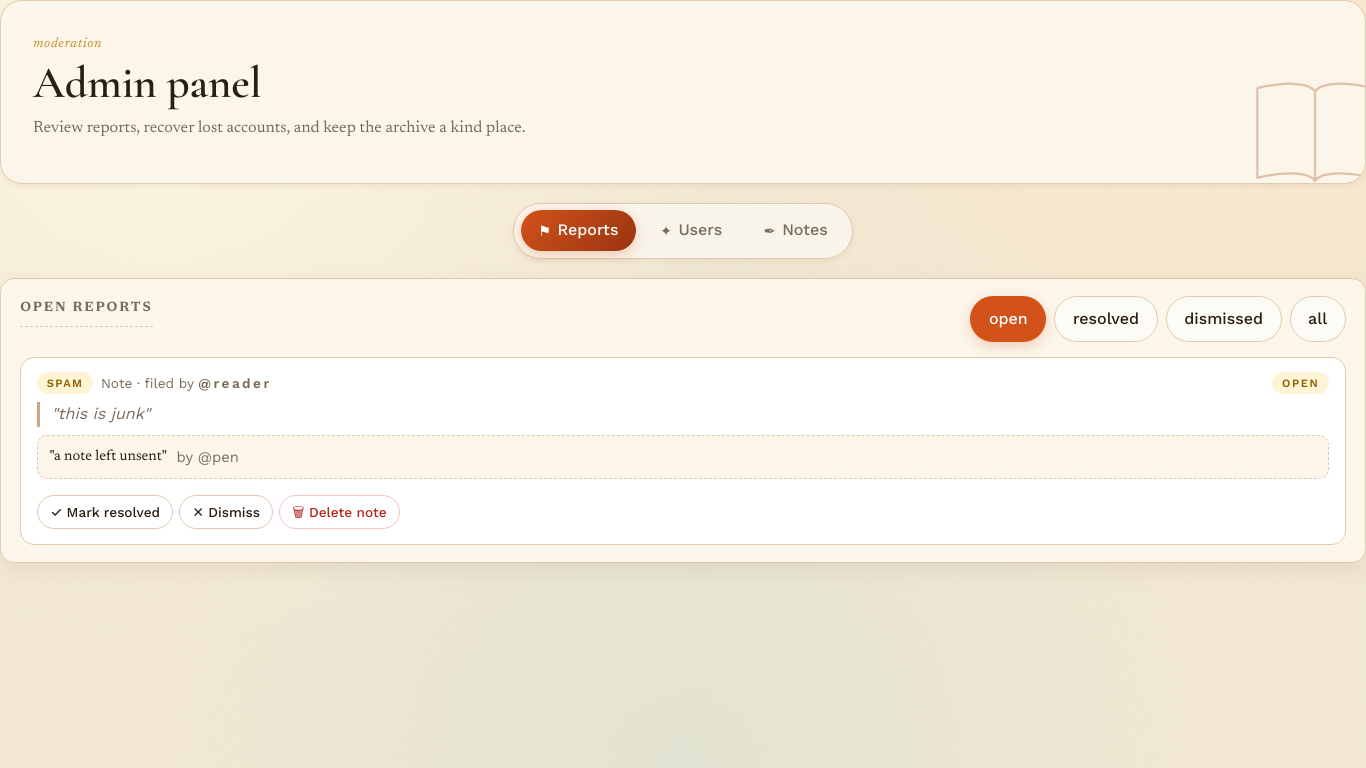
Test case: AdminDashboard › resolves and dismisses a report from its card
Expected: the text "spam" is shown, left=37, top=372, right=93, bottom=394
Click the button "✓ Mark resolved" at coordinates (105, 512), box left=37, top=495, right=173, bottom=529
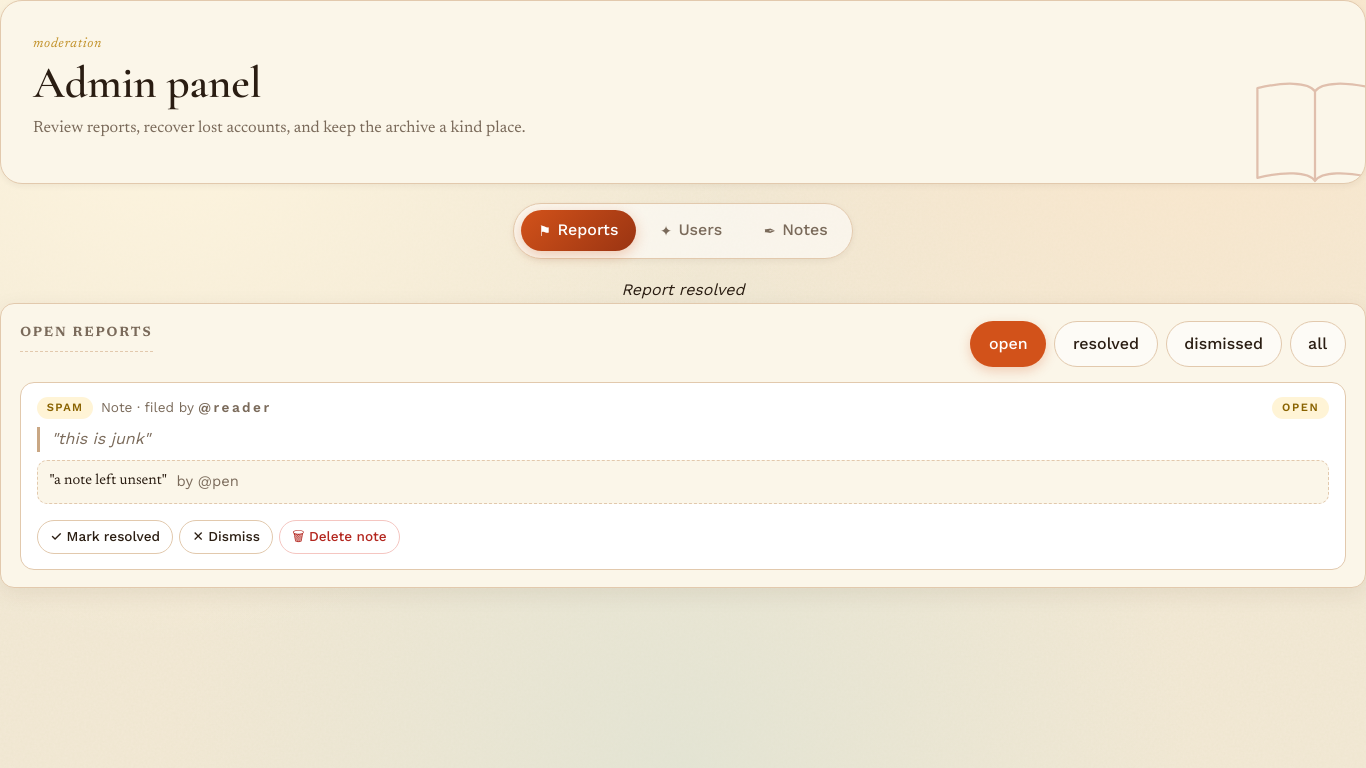
Now the text "Report resolved" is shown, box left=621, top=280, right=744, bottom=299
Click the button "✕ Dismiss" at coordinates (226, 537), box left=179, top=520, right=273, bottom=554
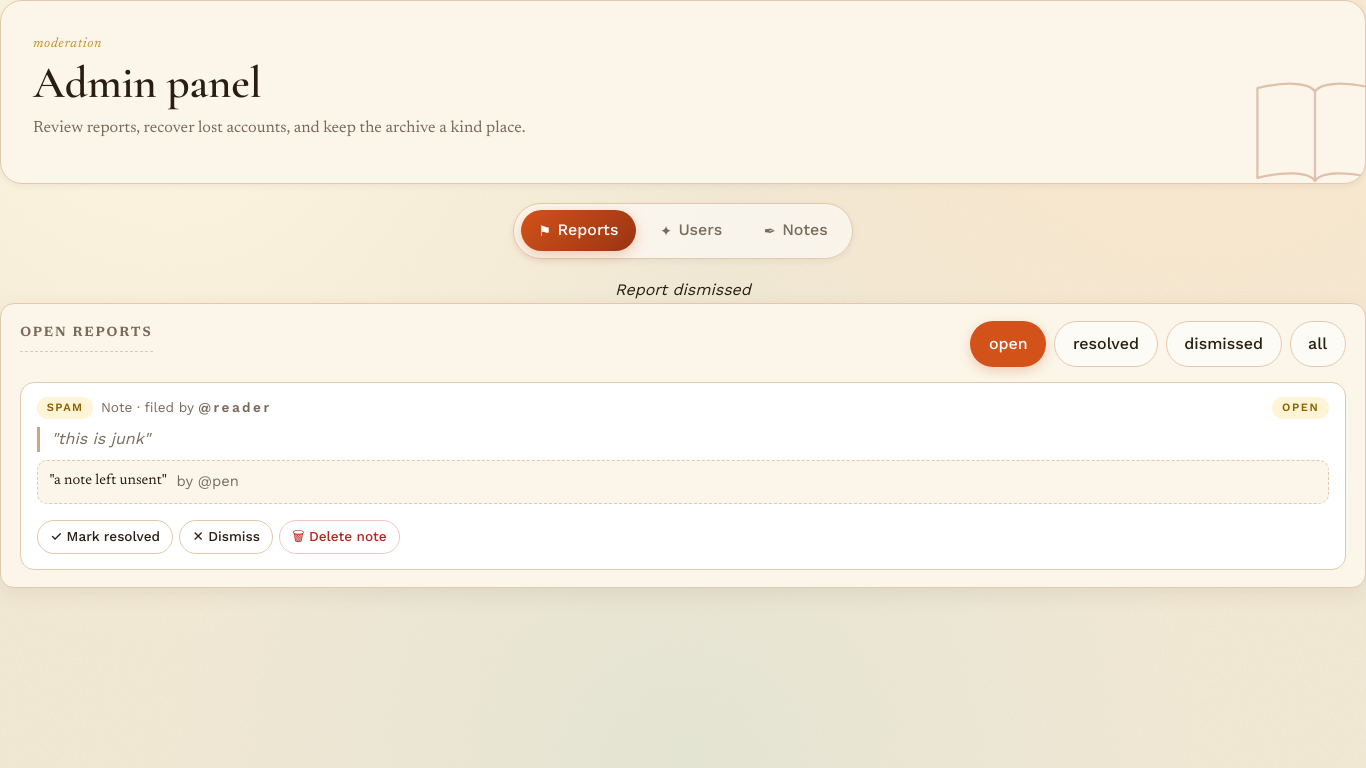
Now the text "Report dismissed" is shown, box left=615, top=280, right=751, bottom=299
